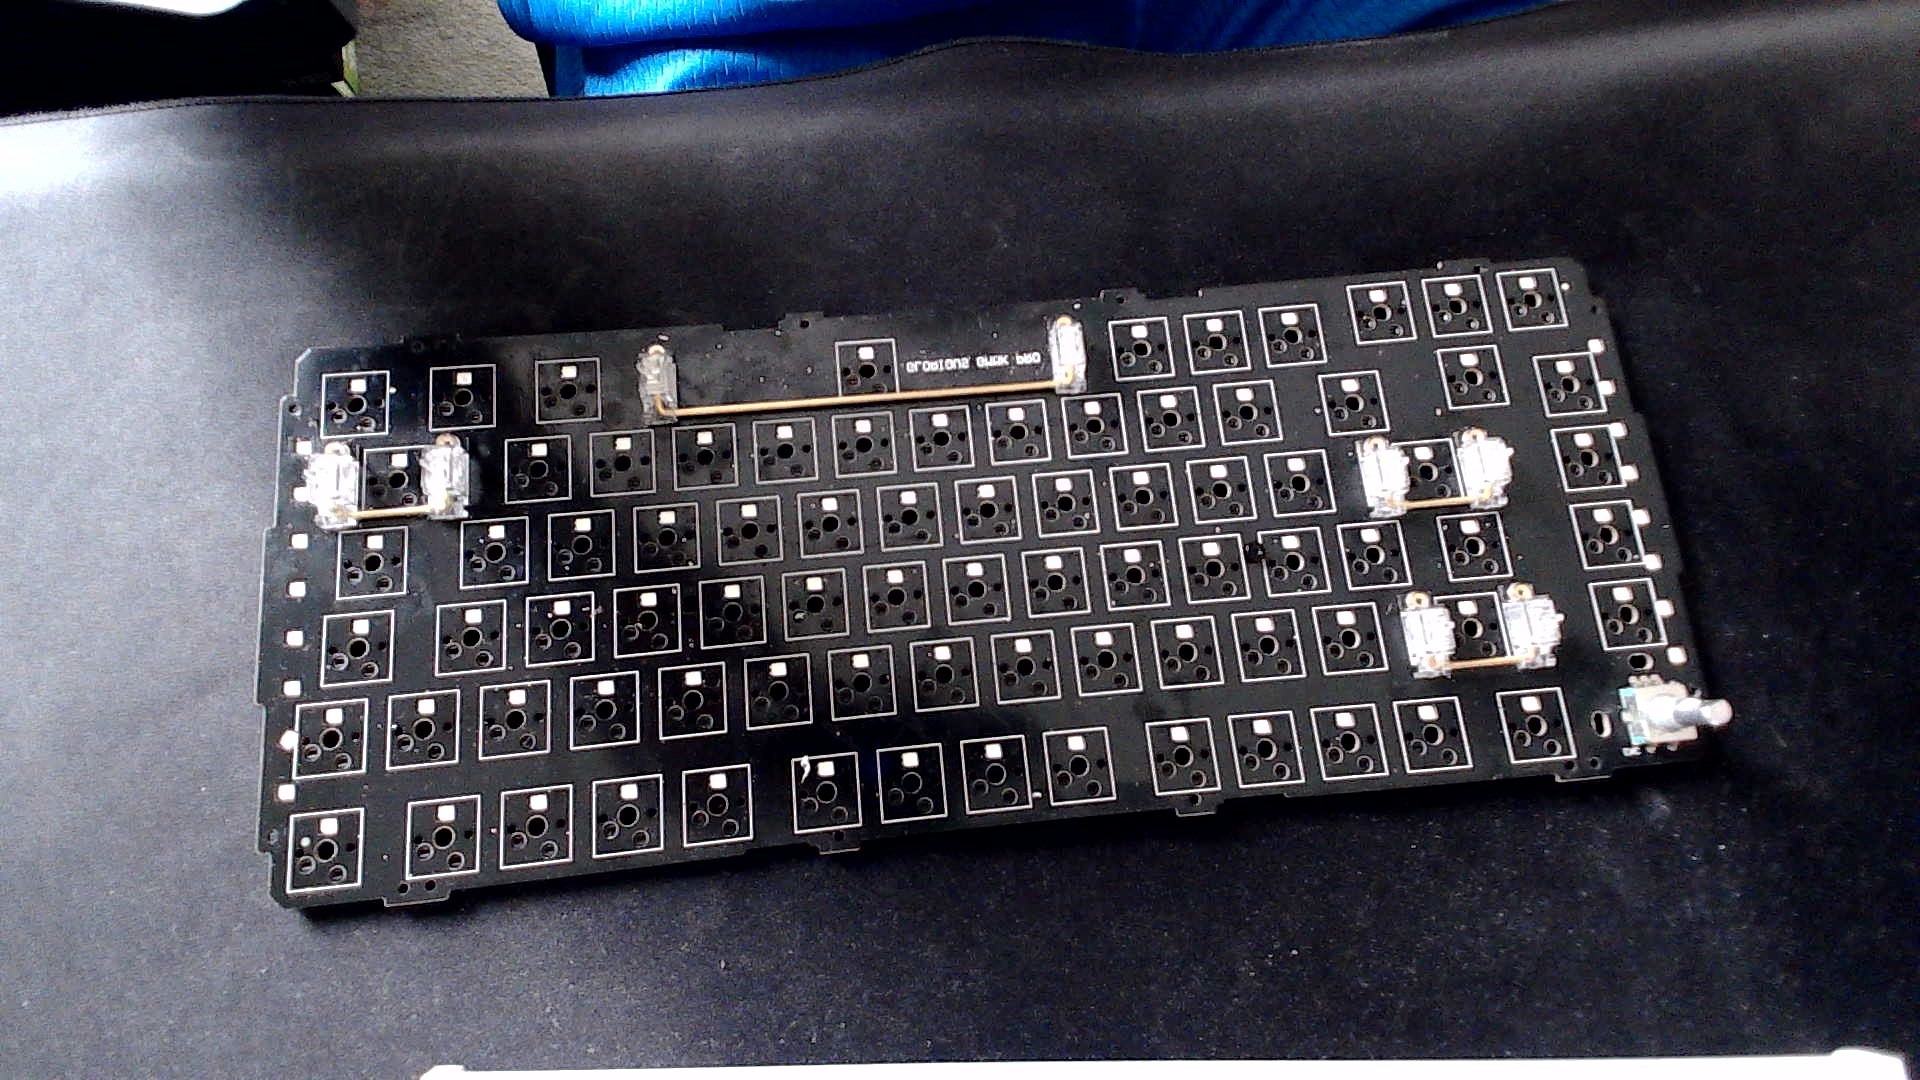pcb: (235, 229, 1735, 953)
